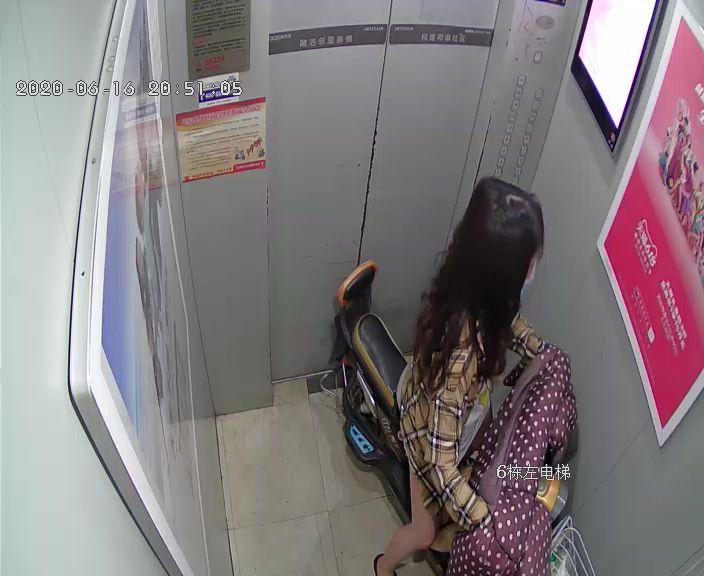Electric-bicycle: (330, 256, 591, 573)
